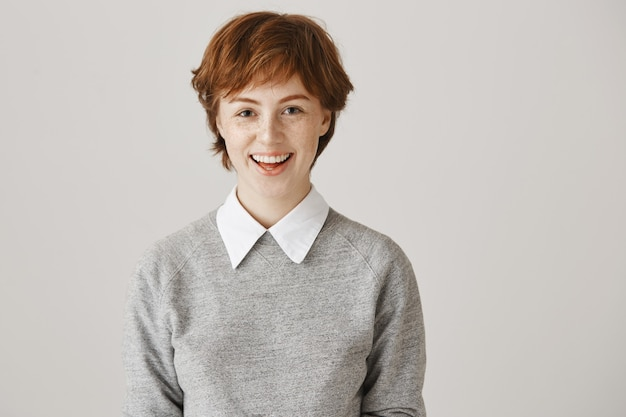teen: (187, 16, 350, 212)
